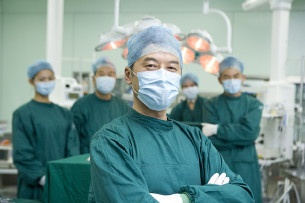Mask: (130, 54, 183, 107)
